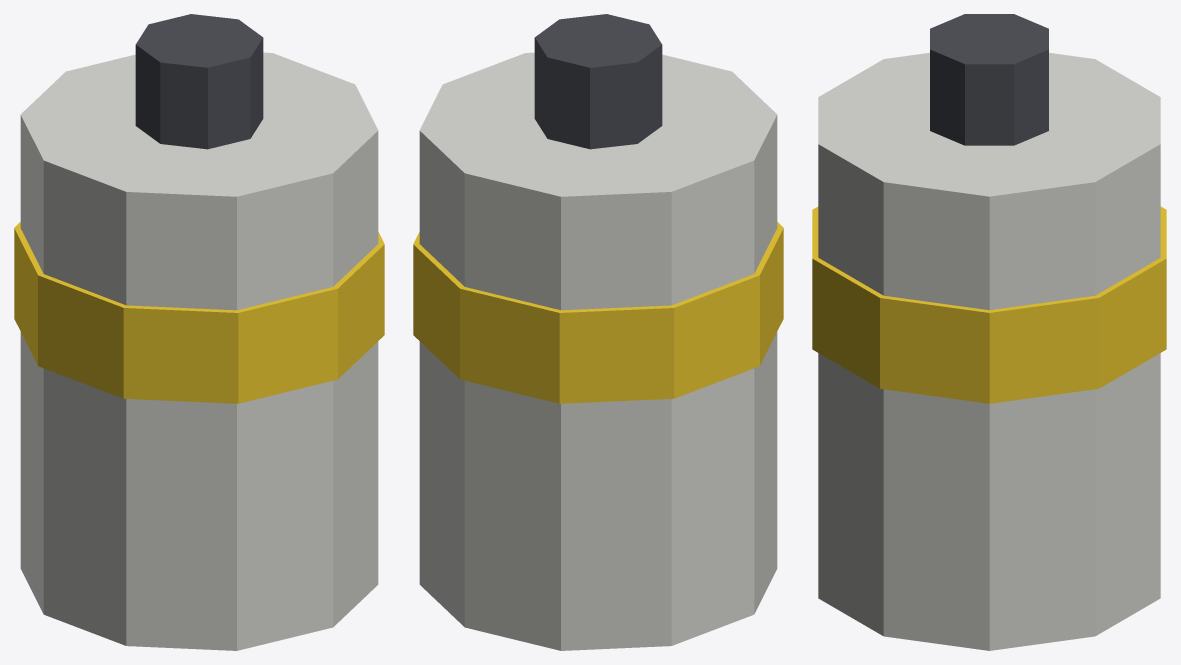
The model's file is item_kerosene.glb.
The picture shows the model from 3 angles, left to right: view 1: azimuth 30°, elevation 25°; view 2: azimuth 150°, elevation 25°; view 3: azimuth 270°, elevation 25°; orthographic projection.
Parts seen in each view (by area): view 1: item_kerosene; view 2: item_kerosene; view 3: item_kerosene.
Boxes of the visible parts, x1,y1,x2,y2 form: item_kerosene: (14,14,384,650); item_kerosene: (413,14,783,650); item_kerosene: (812,14,1166,650).
Size of the model in its own units: 0.58 by 0.92 by 0.5516.
